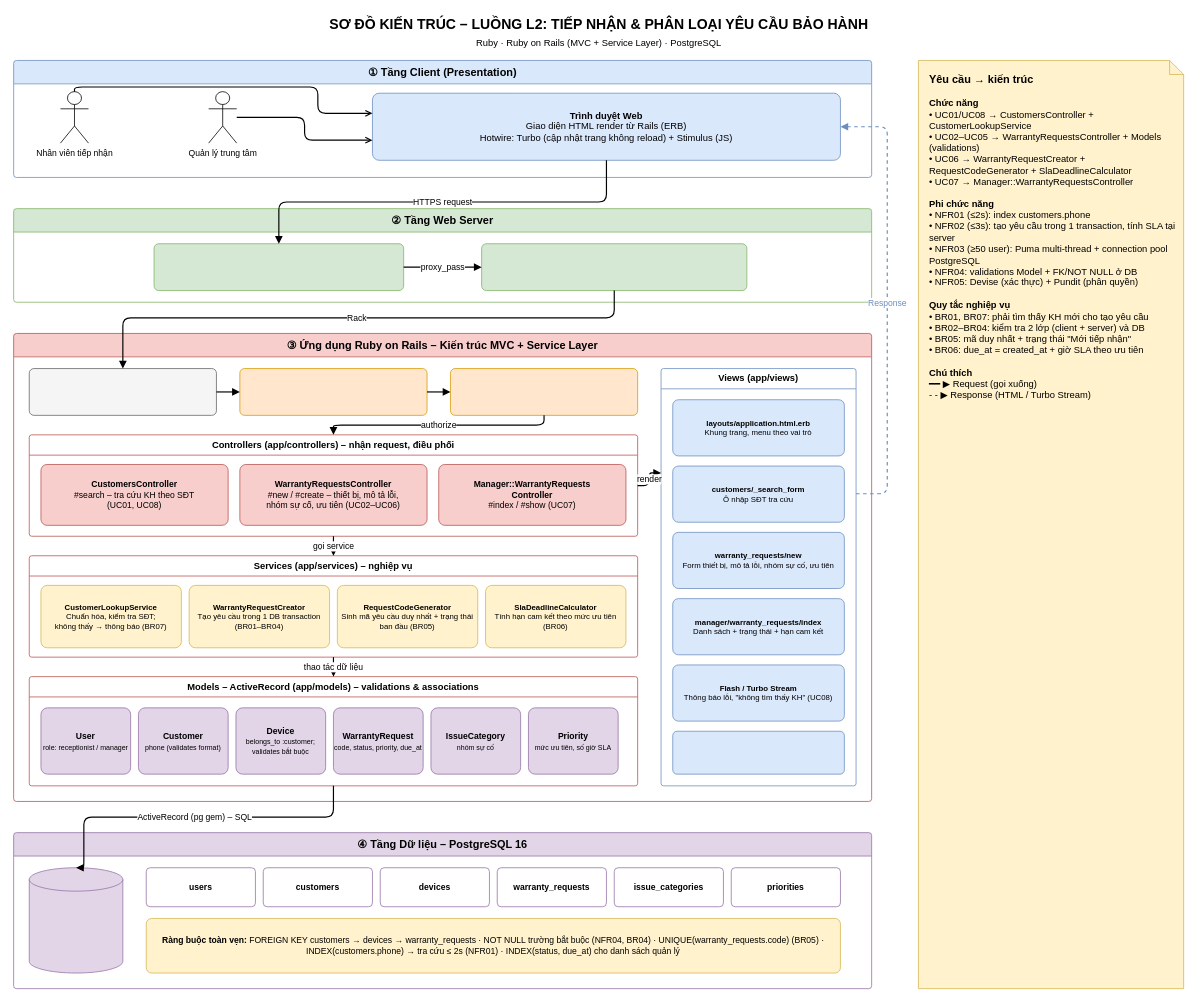
This 1197x1002 diagram has some shape labels left out. Here are the shapes that lost their labels. From the top down, the centre of each, then its label:
[278,267]: Nginx Reverse proxy · HTTPS/SSL · phục vụ static assets
[614,267]: Puma Rack app server · multi-thread (≥ 50 user đồng thời – NFR03)
[122,391]: Router config/routes.rb
[333,391]: Devise Xác thực đăng nhập (User + role)
[544,391]: Pundit Phân quyền theo vai trò (NFR05)
[758,752]: Stimulus controller Kiểm tra SĐT, trường bắt buộc phía client
[75,920]: PostgreSQL warranty_db
